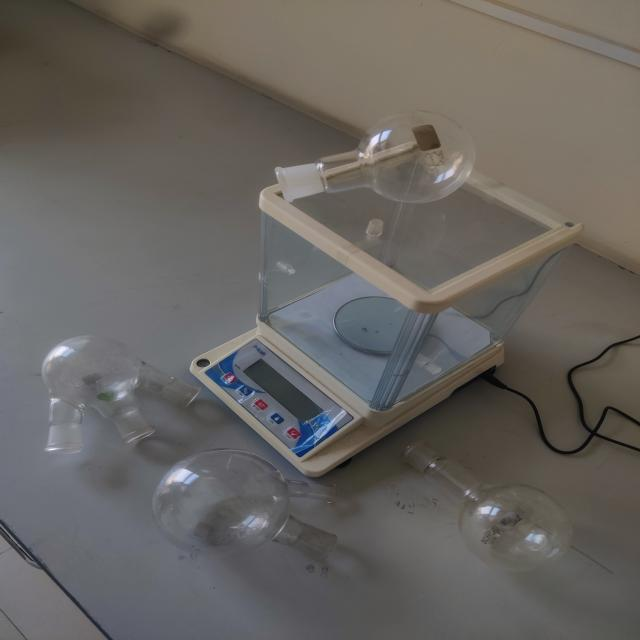Round_Bottom_Flask_Borosilicate_Glass_1_Neck: (258, 100, 506, 232), (387, 422, 586, 584)
Round_Bottom_Flask_Borosilicate_Glass_2_Neck: (139, 430, 377, 586)
Round_Bottom_Flask_Borosilicate_Glass_3_Neck: (31, 309, 220, 466)
